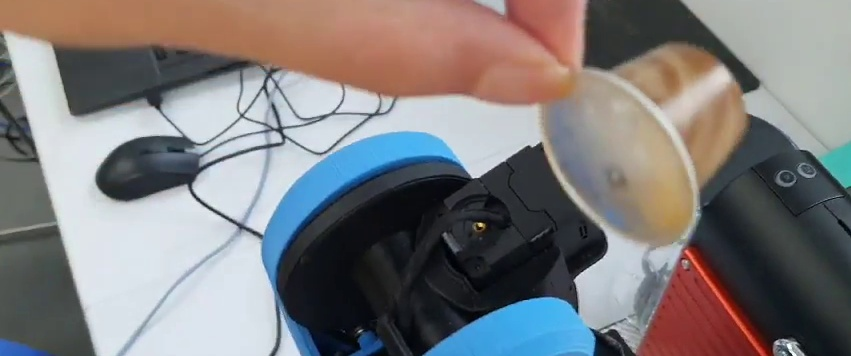capsule_12: (537, 40, 753, 252)
